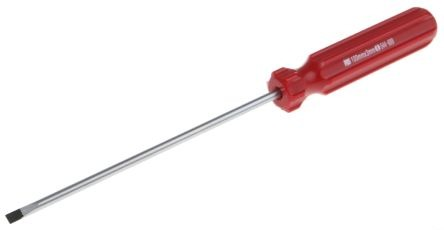screwdriver: (2, 5, 438, 224)
